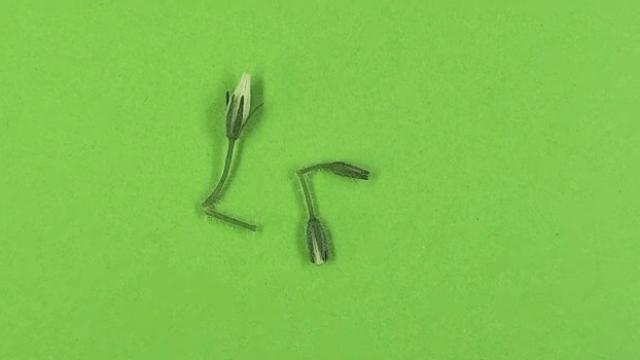Flower Bud: (224, 71, 258, 140), (305, 218, 331, 264), (325, 162, 371, 180)
